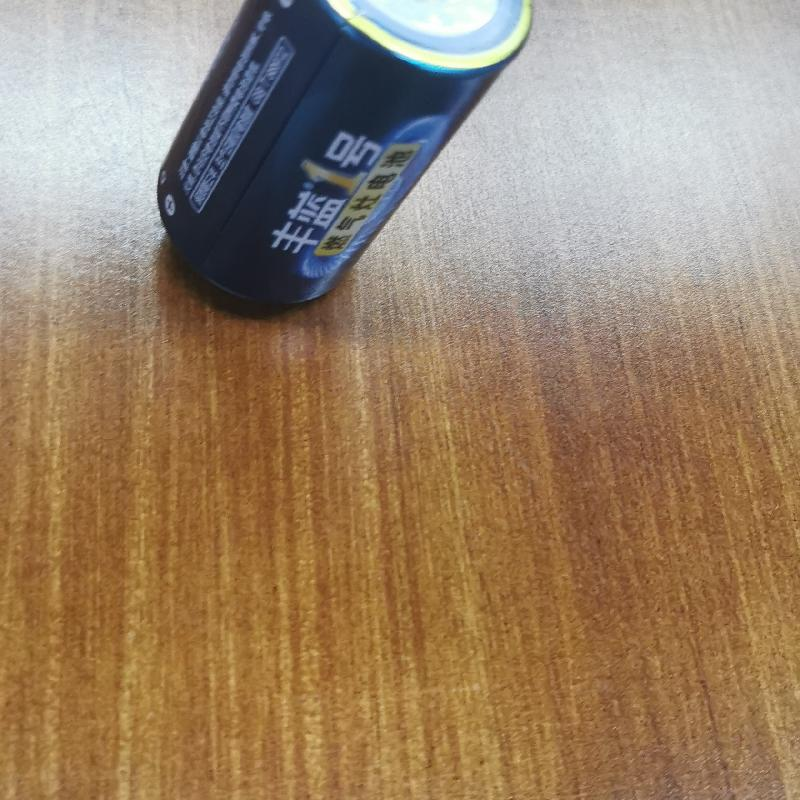battery: (152, 0, 537, 316)
